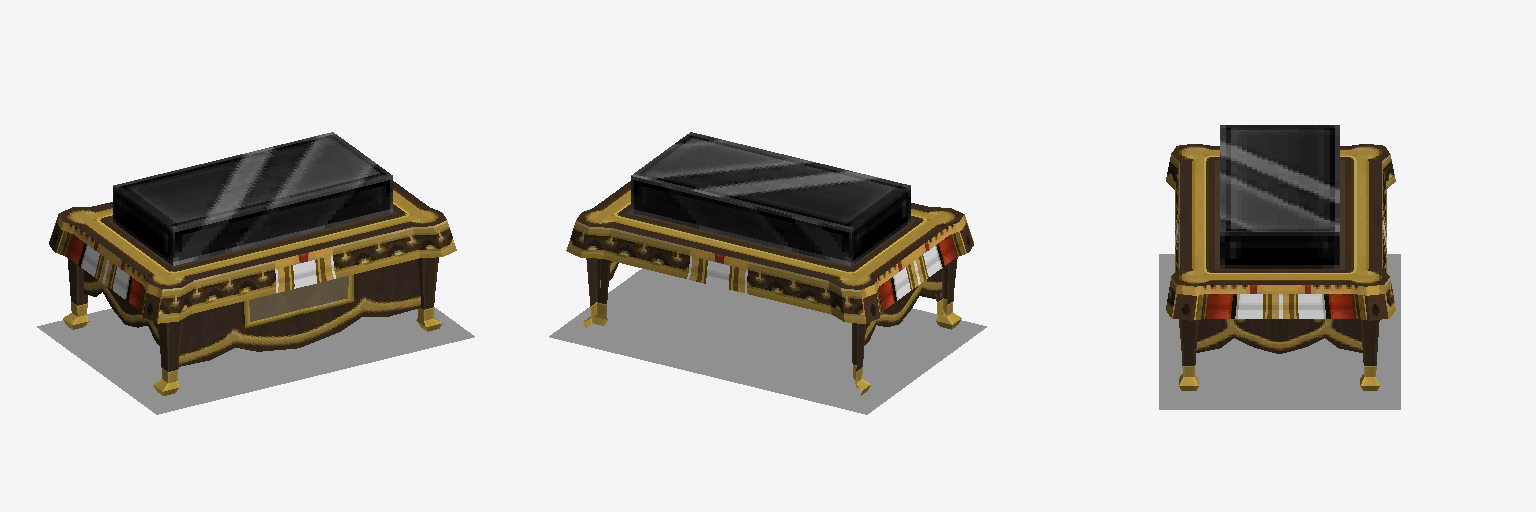
The picture shows the model from 3 angles: view 1: azimuth 30°, elevation 25°; view 2: azimuth 150°, elevation 25°; view 3: azimuth 270°, elevation 25°; orthographic projection.
Parts seen in each view (by area): view 1: polySurface2; view 2: polySurface2; view 3: polySurface2.
Part boxes in pixels (bbox=[...]): polySurface2: bbox=[37, 132, 474, 414]; polySurface2: bbox=[549, 132, 986, 414]; polySurface2: bbox=[1159, 125, 1400, 409].
Size of the model in its own units: 4.37 by 1.99 by 2.86.
Materials: 3 (2 with a texture image).